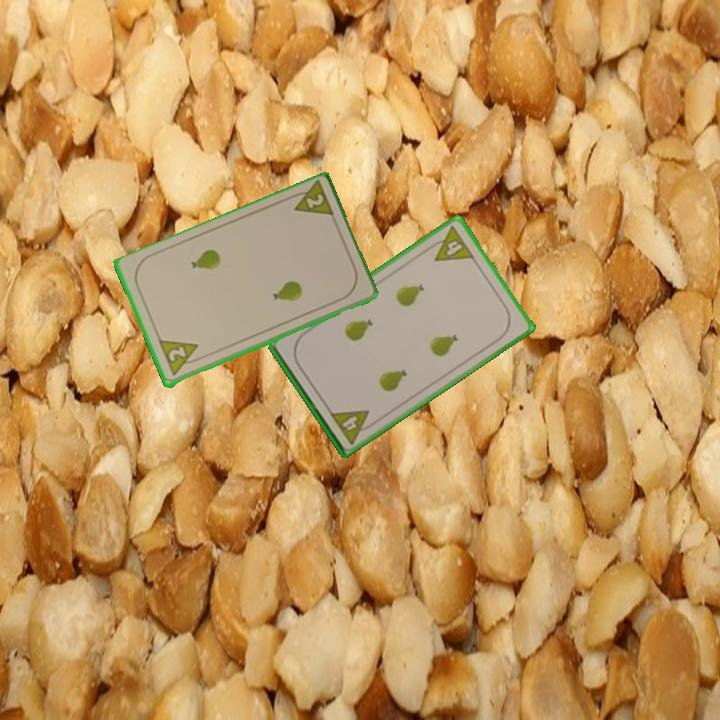2p: (285, 179, 337, 221), (155, 337, 206, 379)
4p: (424, 222, 477, 264), (326, 406, 378, 447)
